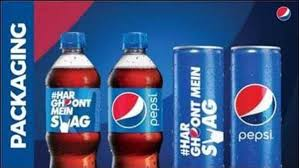Pepsi: (108, 43, 163, 168), (229, 43, 284, 168)
